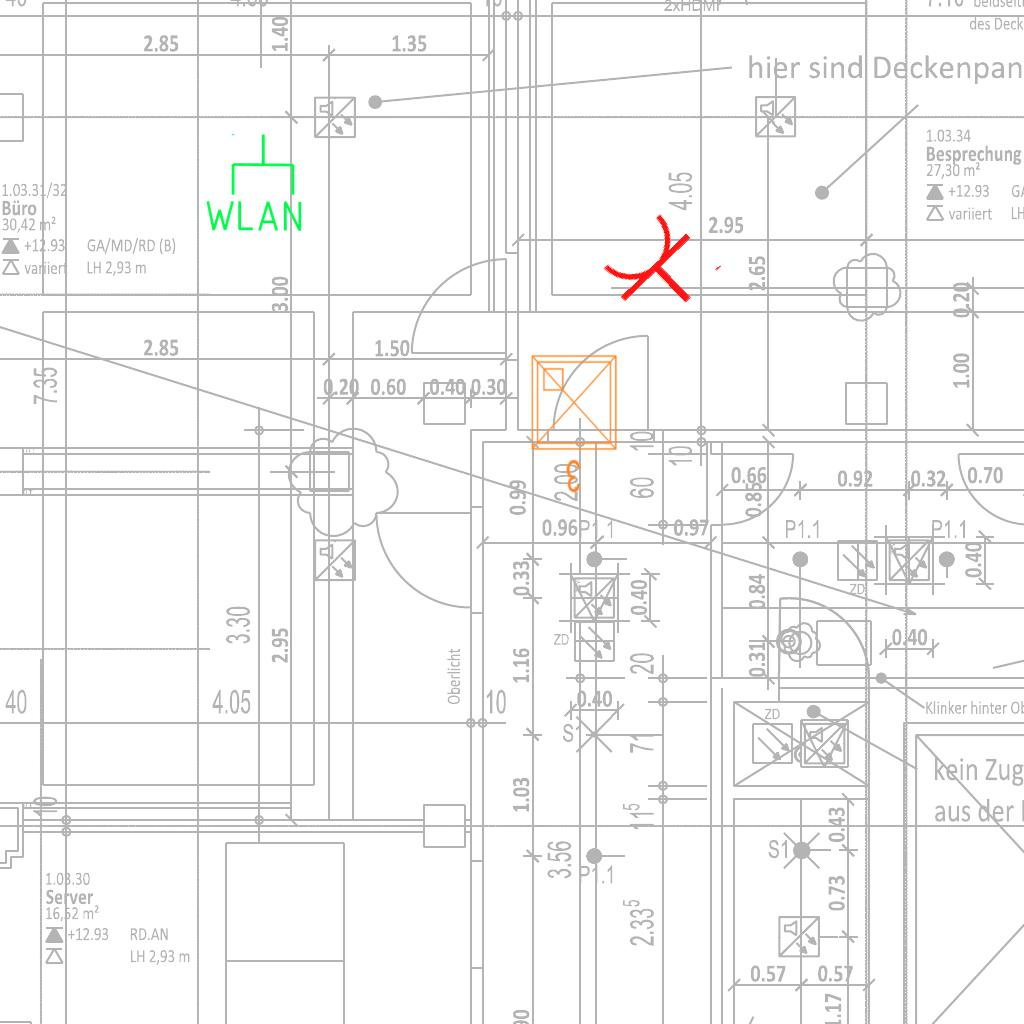Einbaudownlights_LED_Konferenzraeume: (524, 348, 628, 498)
Schukosteckdose_einfach: (594, 202, 727, 336)
WLAN: (201, 131, 306, 235)
